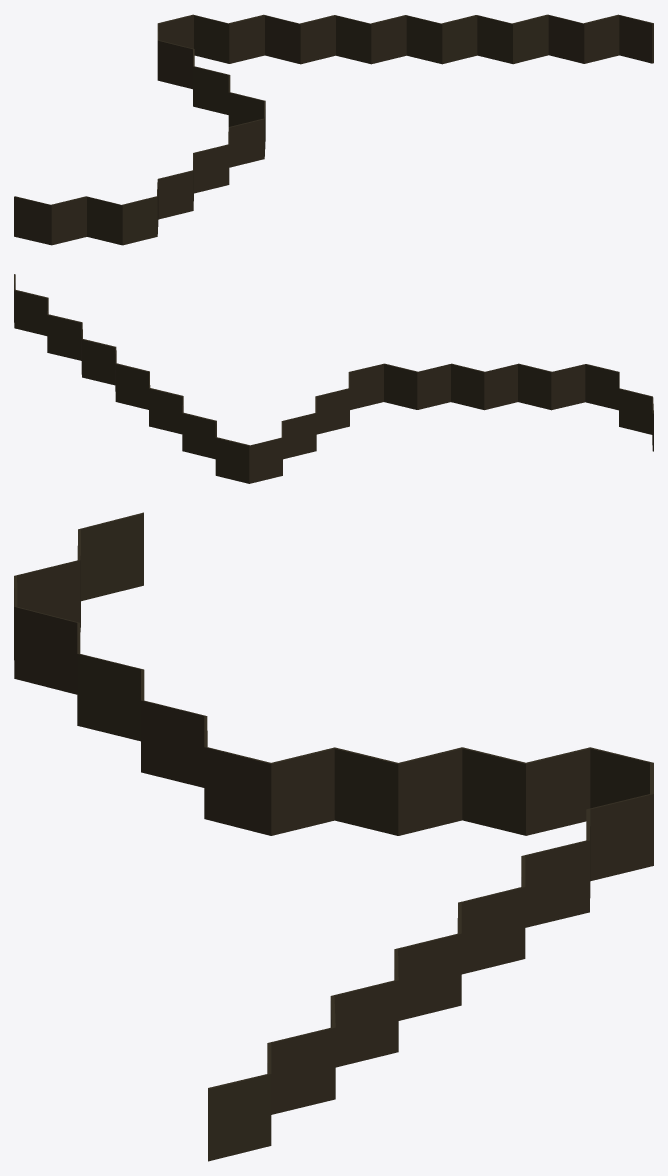
Rendered from Stage1OuterWallsSeeable3.fbx.
The picture shows the model from 3 angles, top to bottom: view 1: azimuth 30°, elevation 25°; view 2: azimuth 150°, elevation 25°; view 3: azimuth 270°, elevation 25°; orthographic projection. The views are drawn at different scales.
Visible parts, largest first — view 1: OuterWallsSeeable3; view 2: OuterWallsSeeable3; view 3: OuterWallsSeeable3.
Part boxes in pixels (x1=…): OuterWallsSeeable3: x1=14, y1=14, x2=653, y2=245; OuterWallsSeeable3: x1=14, y1=274, x2=653, y2=483; OuterWallsSeeable3: x1=14, y1=512, x2=653, y2=1161.
Bounding box in the file's own units: 172 × 10 × 80.62.
